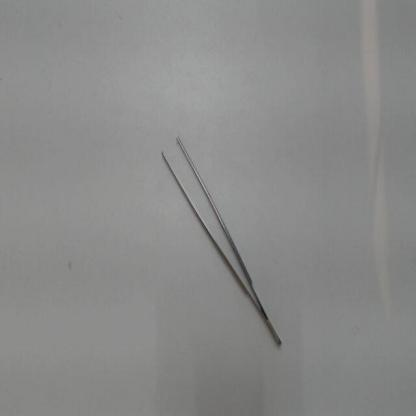Gillies Toothed Dissector: (158, 120, 286, 354)
